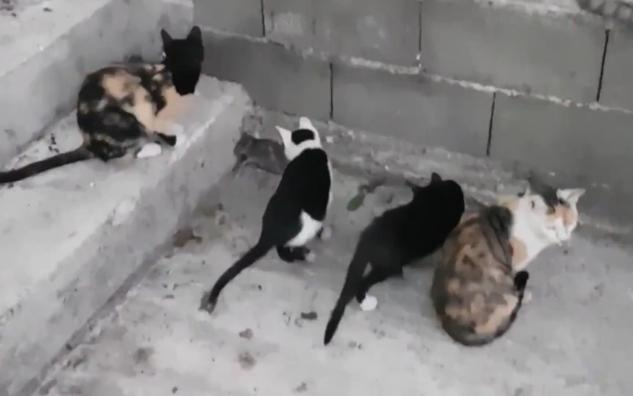cat: (1, 26, 205, 184), (199, 116, 333, 314), (431, 178, 587, 347), (322, 172, 467, 347)
